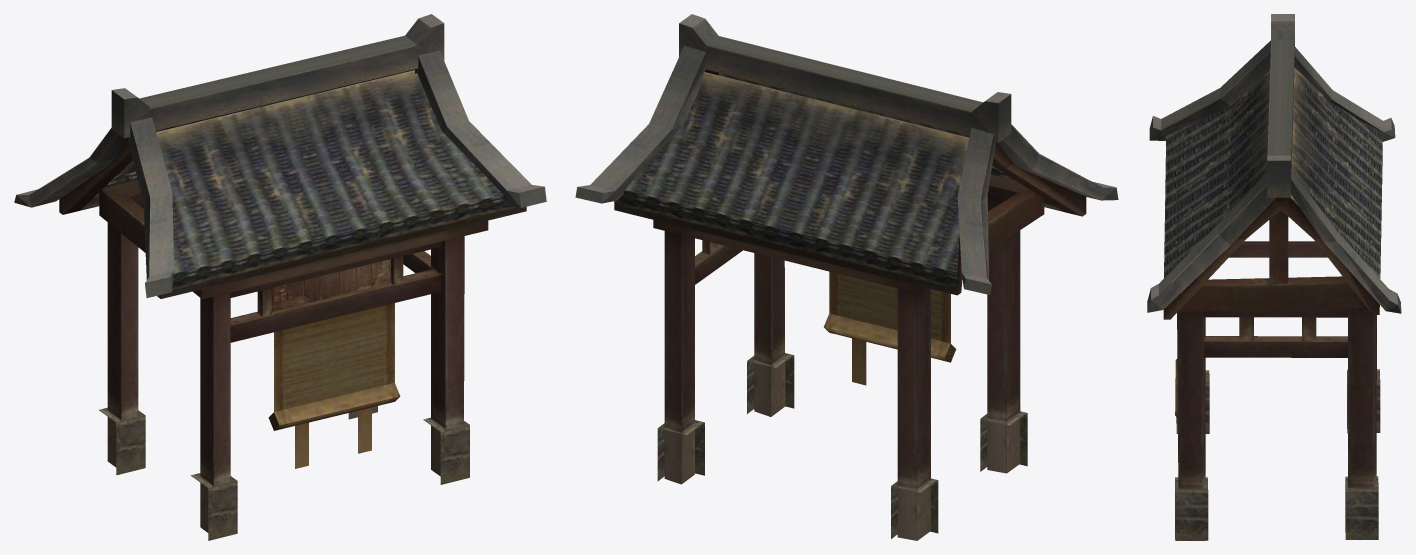
Rendered from SC001Jjianzhu_46.FBX.
3 views of the same model, side by side, from view 1: azimuth 30°, elevation 25°; view 2: azimuth 150°, elevation 25°; view 3: azimuth 270°, elevation 25° (orthographic). The views are drawn at different scales.
Parts seen in each view (by area): view 1: SC001Jjianzhu_46; view 2: SC001Jjianzhu_46; view 3: SC001Jjianzhu_46.
Boxes of the visible parts, left/top/right/bottom form: SC001Jjianzhu_46: left=14, top=14, right=546, bottom=540; SC001Jjianzhu_46: left=575, top=14, right=1118, bottom=540; SC001Jjianzhu_46: left=1147, top=14, right=1401, bottom=540.
Bounding box in the file's own units: 3.84 × 3.73 × 2.2.
